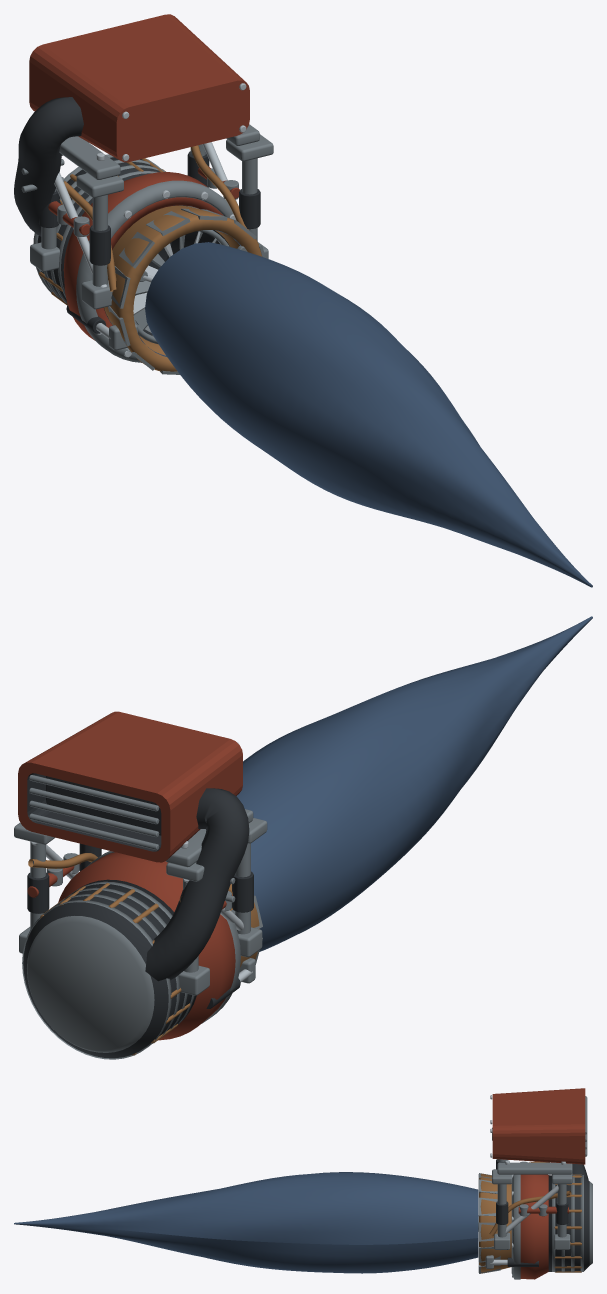
File: BoostJet.glb
3 renders of one model, top to bottom at view 1: azimuth 30°, elevation 25°; view 2: azimuth 150°, elevation 25°; view 3: azimuth 270°, elevation 25°, orthographic. The views are drawn at different scales.
Visible parts, largest first — view 1: FlameSurface, Intake_Boost_OxideArmor, Nozzle_Boost_HeatBronze, BoostJet_Boost_Titanium, Intake_Boost_Carbon, Mount_Boost_Titanium, Mount_Boost_OxideArmor, BoostJet_Boost_Carbon, Nozzle_Boost_Titanium, Intake_Boost_Titanium, Mount_Boost_Carbon, BoostJet_Boost_HeatBronze (+2 smaller); view 2: FlameSurface, Intake_Boost_OxideArmor, Mount_Boost_Titanium, Intake_Boost_Carbon, Mount_Boost_Carbon, Mount_Boost_OxideArmor, Intake_Boost_Titanium, BoostJet_Boost_Titanium, BoostJet_Boost_Carbon, Mount_Boost_HeatBronze, BoostJet_Boost_HeatBronze; view 3: FlameSurface, Intake_Boost_OxideArmor, Mount_Boost_OxideArmor, Mount_Boost_Titanium, Mount_Boost_Carbon, BoostJet_Boost_Titanium, Nozzle_Boost_HeatBronze, Intake_Boost_Titanium, Nozzle_Boost_Titanium, BoostJet_Boost_Carbon, Mount_Boost_HeatBronze, BoostJet_Boost_RamChrome (+1 smaller).
Part boxes in pixels (x1,y1,x2,y2): FlameSurface: (145,242,592,587); Intake_Boost_OxideArmor: (29,14,249,162); Nozzle_Boost_HeatBronze: (104,205,261,371); BoostJet_Boost_Titanium: (30,134,273,309); Intake_Boost_Carbon: (14,97,83,236); Mount_Boost_Titanium: (33,154,236,362); Mount_Boost_OxideArmor: (63,172,223,340); BoostJet_Boost_Carbon: (38,151,260,265); Nozzle_Boost_Titanium: (108,208,265,374); Intake_Boost_Titanium: (21,124,259,192); Mount_Boost_Carbon: (37,157,171,333); BoostJet_Boost_HeatBronze: (64,145,248,291); FlameSurface: (236,616,592,951); Intake_Boost_OxideArmor: (18,711,242,862); Mount_Boost_Titanium: (22,851,240,1059); Intake_Boost_Carbon: (46,776,249,981); Mount_Boost_Carbon: (23,879,240,1058); Mount_Boost_OxideArmor: (58,852,235,1040); Intake_Boost_Titanium: (29,775,253,902); BoostJet_Boost_Titanium: (14,818,267,995); BoostJet_Boost_Carbon: (27,843,253,913); Mount_Boost_HeatBronze: (40,883,190,1055); BoostJet_Boost_HeatBronze: (28,853,251,924); FlameSurface: (14,1172,478,1273); Intake_Boost_OxideArmor: (492,1088,585,1164); Mount_Boost_OxideArmor: (520,1174,548,1279); Mount_Boost_Titanium: (511,1174,592,1279); Mount_Boost_Carbon: (507,1175,589,1271); BoostJet_Boost_Titanium: (492,1127,572,1249); Nozzle_Boost_HeatBronze: (479,1173,511,1273); Intake_Boost_Titanium: (497,1096,587,1174); Nozzle_Boost_Titanium: (478,1173,500,1273); BoostJet_Boost_Carbon: (496,1159,568,1224); Mount_Boost_HeatBronze: (554,1174,581,1272); BoostJet_Boost_RamChrome: (496,1161,558,1236).
Bounding box in the file's own units: 1.01 × 1.36 × 4.24.
